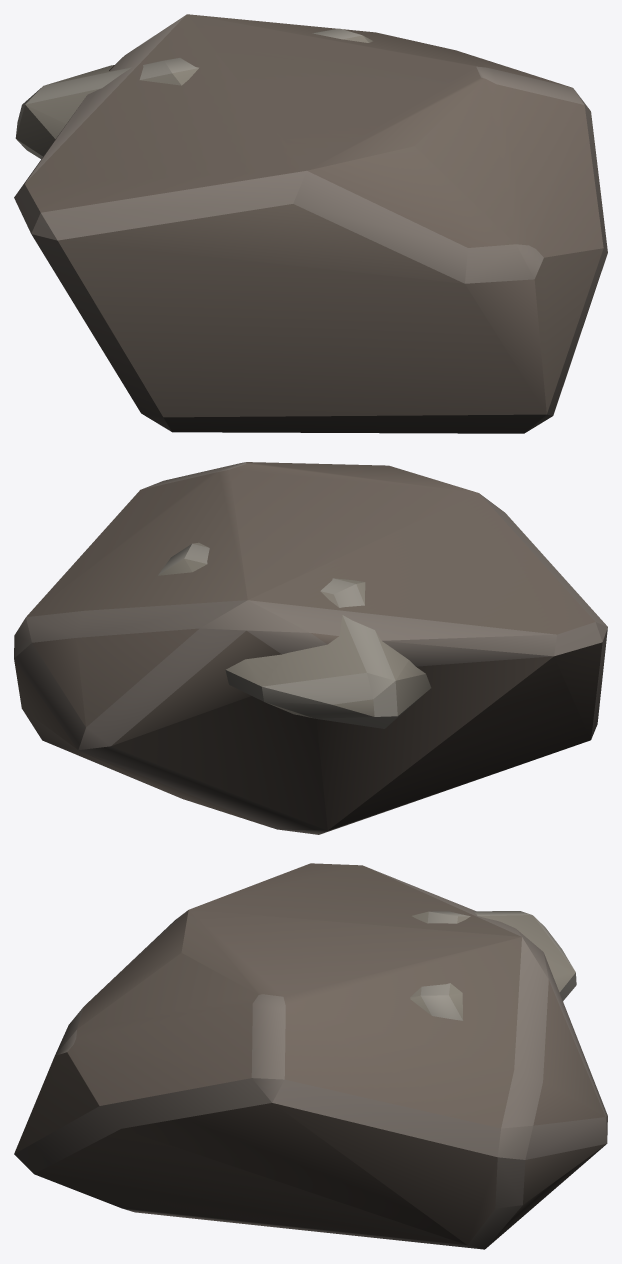
Rendered from CO_Rock_C.glb.
3 views of the same model, one above another, from view 1: azimuth 30°, elevation 25°; view 2: azimuth 150°, elevation 25°; view 3: azimuth 270°, elevation 25° (orthographic). The views are drawn at different scales.
Parts seen in each view (by area): view 1: CO_Rock_C_1_Slate; view 2: CO_Rock_C_1_Slate; view 3: CO_Rock_C_1_Slate.
Part boxes in pixels (bbox=[...]): CO_Rock_C_1_Slate: bbox=[14, 14, 607, 433]; CO_Rock_C_1_Slate: bbox=[14, 462, 607, 834]; CO_Rock_C_1_Slate: bbox=[14, 863, 607, 1249].
Size of the model in its own units: 2.15 by 1.06 by 2.28.
